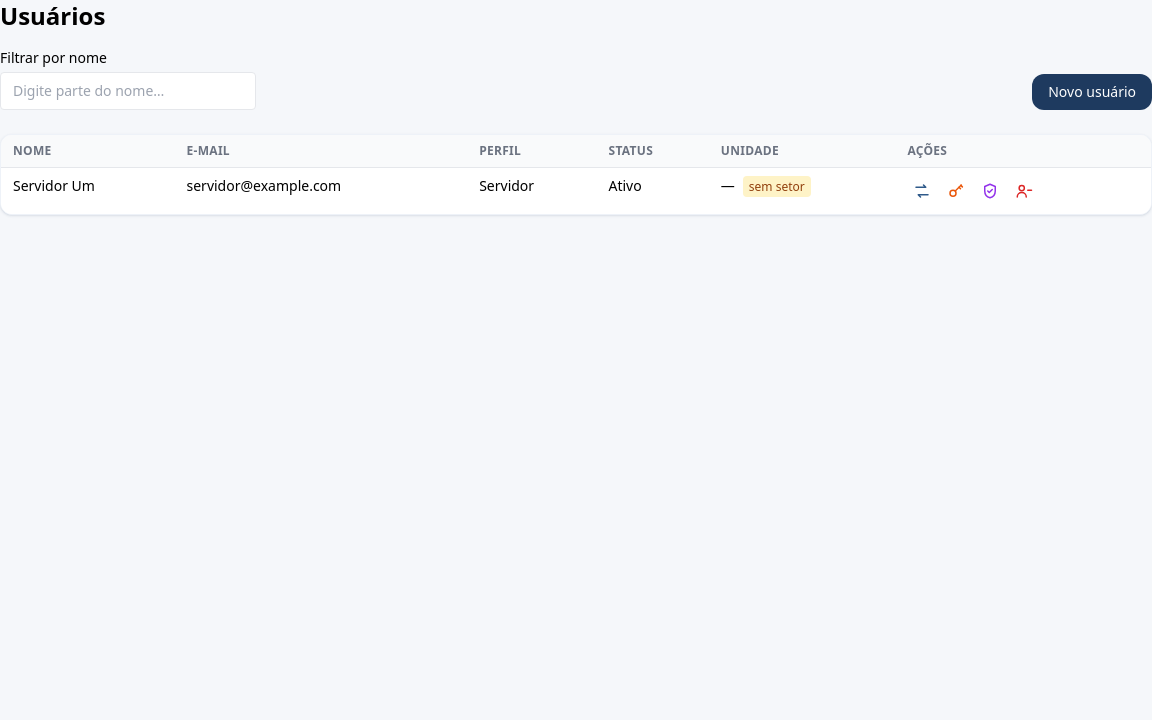
Scenario: AdminUsuariosPage — ações de auditoria e desativação (US 8.3/8.4) › fecha o modal ao acionar Fechar
This screenshot has width=1152, height=720.
expect the text "Servidor Um" is shown: met, box [1,168,174,214]
Click the button "Novo usuário": point(1092, 92) [1032,74,1151,110]
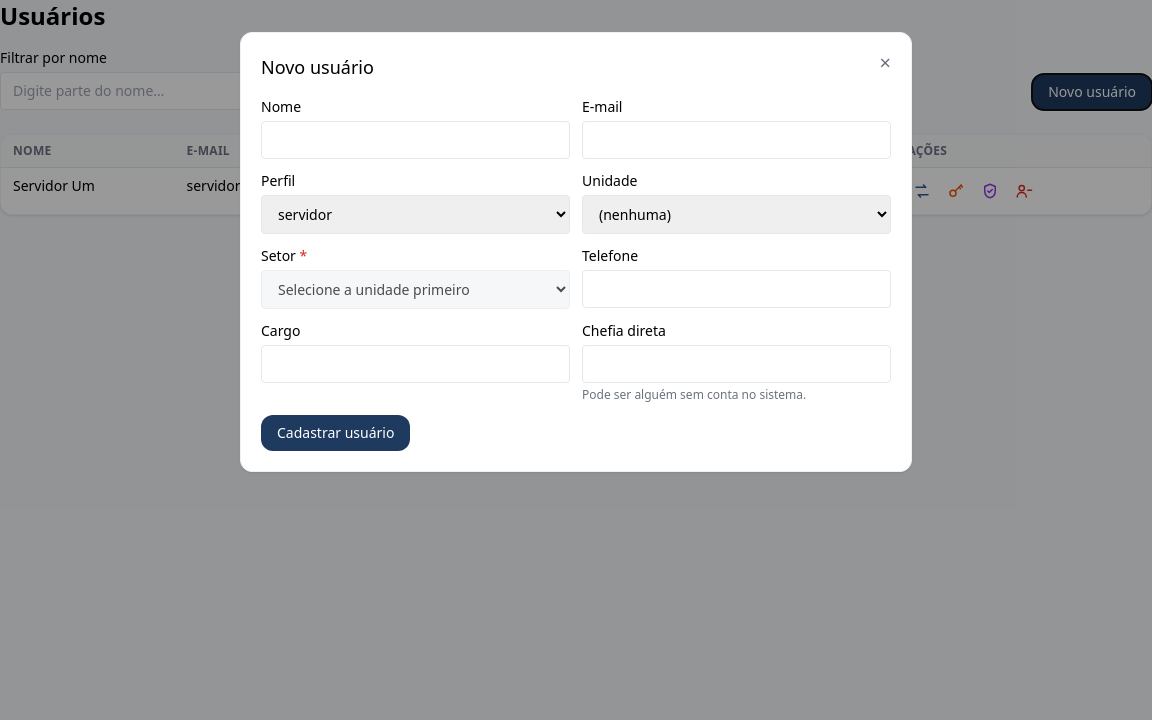
Click the button named "Fechar": point(885, 63) [880,53,891,73]
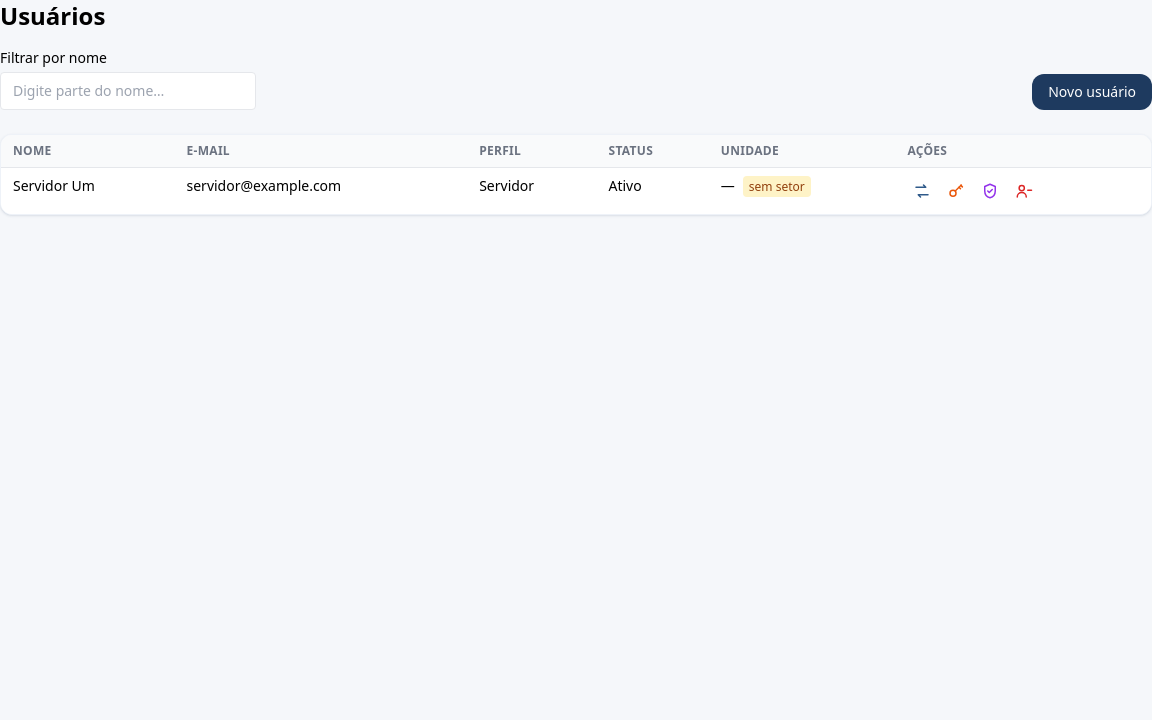
expect the dialog is gone: met
